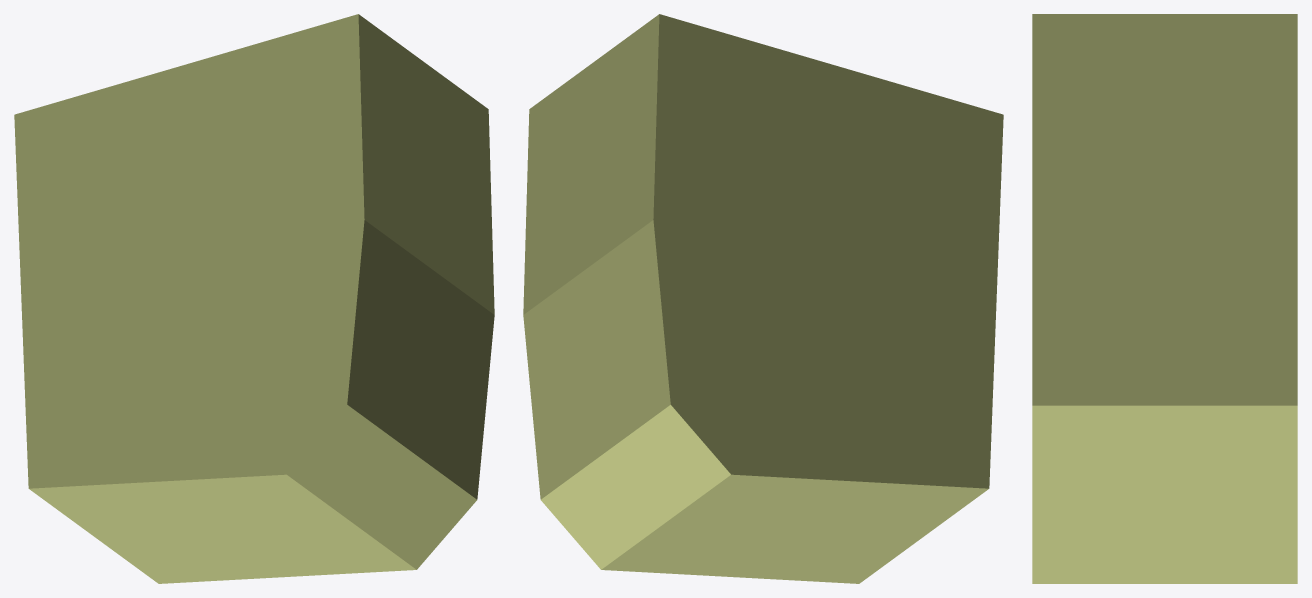
The picture shows the model from 3 angles, left to right: view 1: azimuth 30°, elevation 25°; view 2: azimuth 150°, elevation 25°; view 3: azimuth 270°, elevation 25°; orthographic projection.
Parts seen in each view (by area): view 1: 0_1_0_0_1_3_2_2_2_3; view 2: 0_1_0_0_1_3_2_2_2_3; view 3: 0_1_0_0_1_3_2_2_2_3.
Part boxes in pixels (<box>): 0_1_0_0_1_3_2_2_2_3: <box>14,14,494,583</box>; 0_1_0_0_1_3_2_2_2_3: <box>523,14,1003,583</box>; 0_1_0_0_1_3_2_2_2_3: <box>1032,14,1297,583</box>.
Bounding box in the file's own units: 9.32 × 11.27 × 6.
